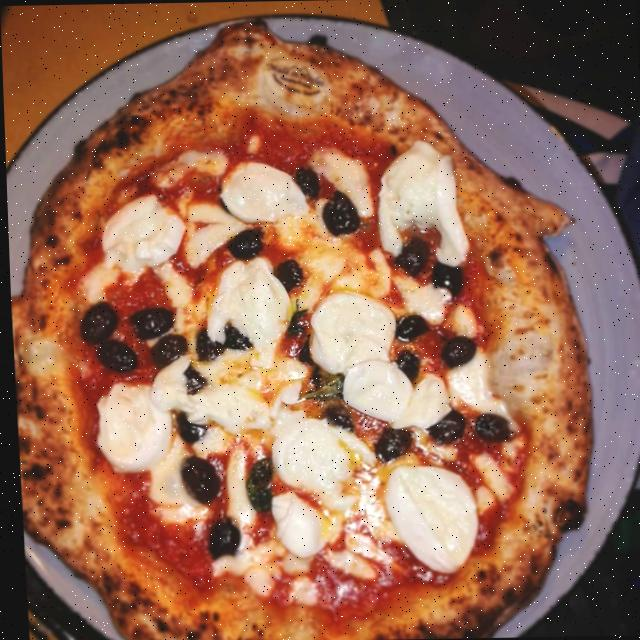basil: (278, 294, 313, 367), (297, 366, 346, 406), (243, 456, 274, 514)
black_olives: (170, 452, 220, 506), (381, 230, 430, 278), (316, 188, 361, 238), (191, 322, 246, 361), (74, 296, 116, 344), (198, 514, 239, 562), (426, 252, 465, 298), (161, 408, 213, 441), (126, 304, 172, 340), (423, 406, 464, 446), (218, 228, 266, 262), (91, 338, 137, 373), (371, 420, 408, 461), (290, 160, 322, 204), (436, 333, 474, 368), (268, 256, 304, 291), (470, 410, 508, 443), (314, 404, 355, 434), (147, 334, 185, 366), (390, 314, 429, 344), (386, 350, 419, 379), (178, 366, 206, 390)
pizza: (0, 0, 605, 640)
